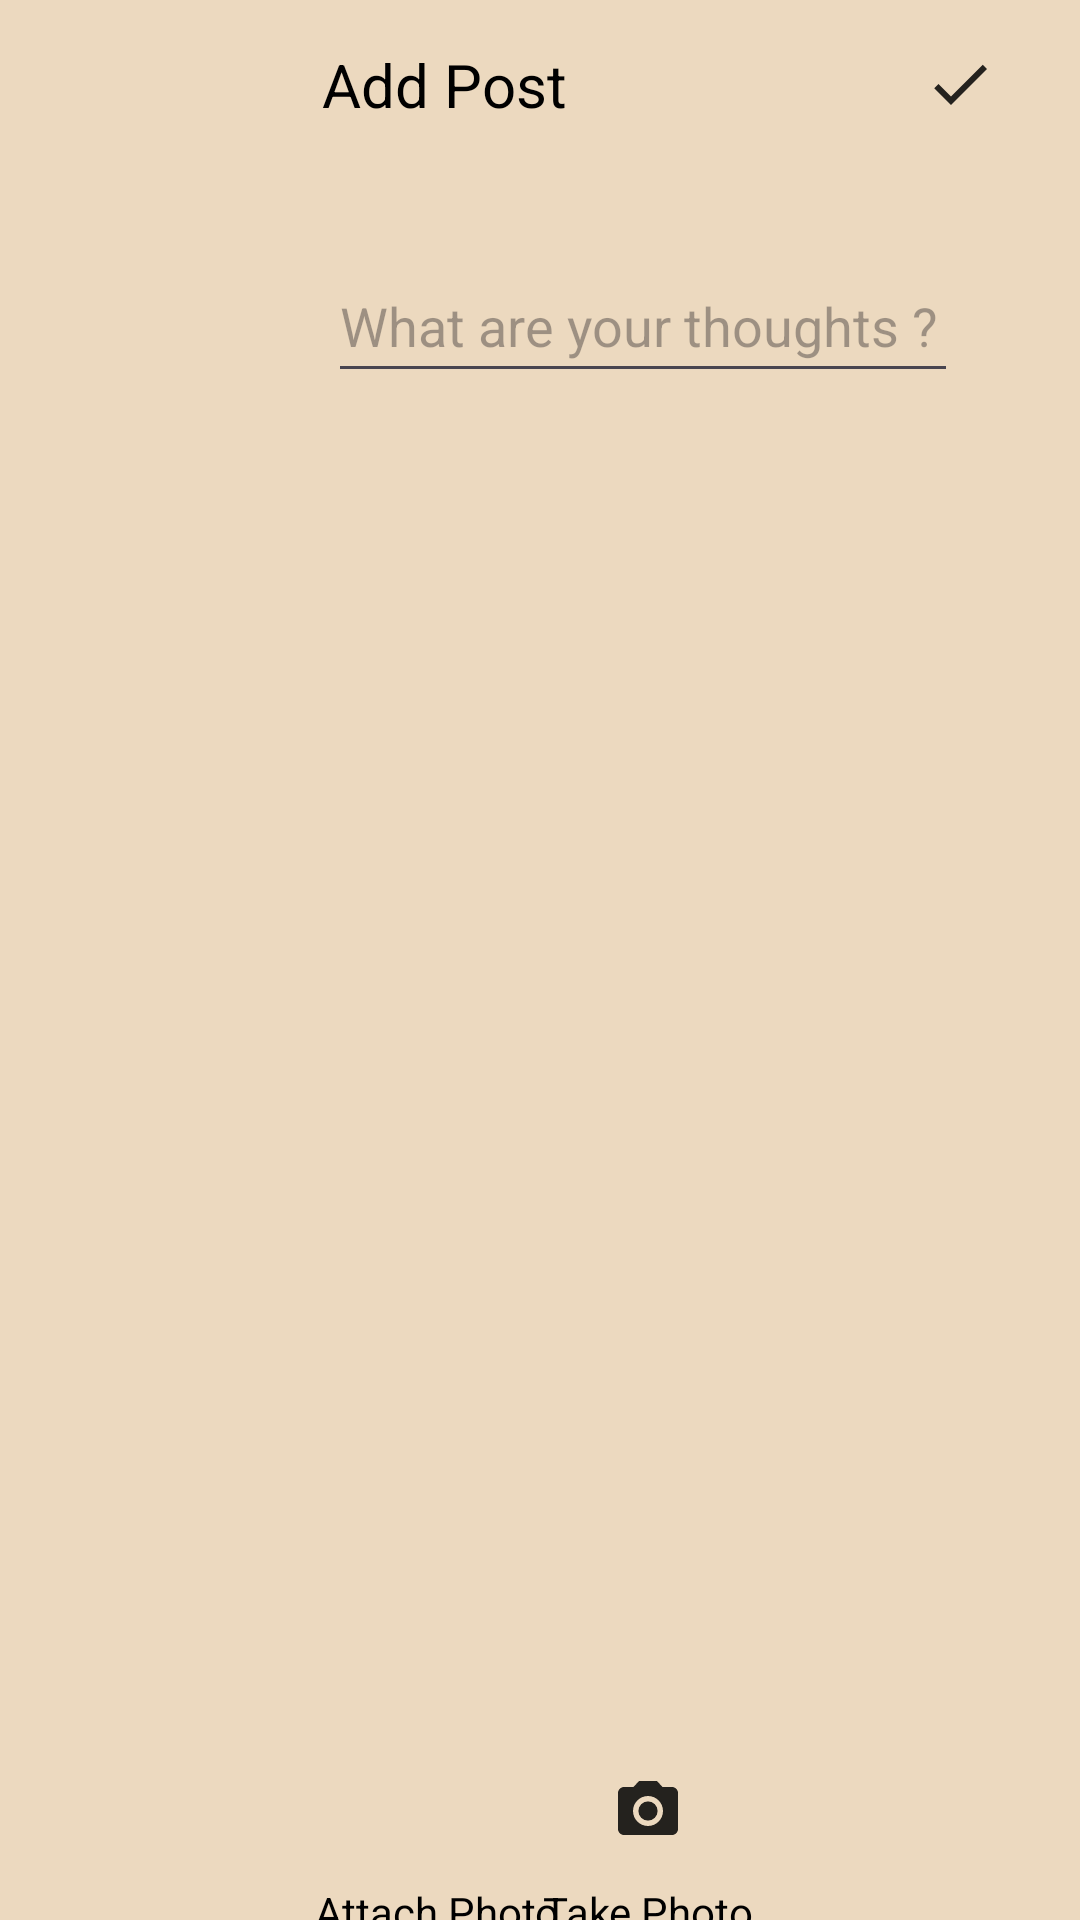

Named icons in this screenshot (1080w x 1920h) and their centers, [x,y]:
Confirmation Button: [960,85]
